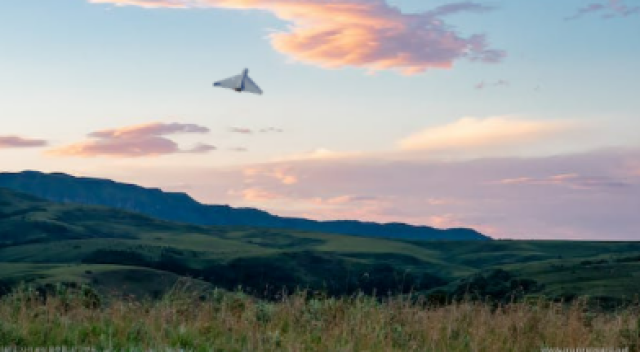military drone: (211, 66, 263, 95)
